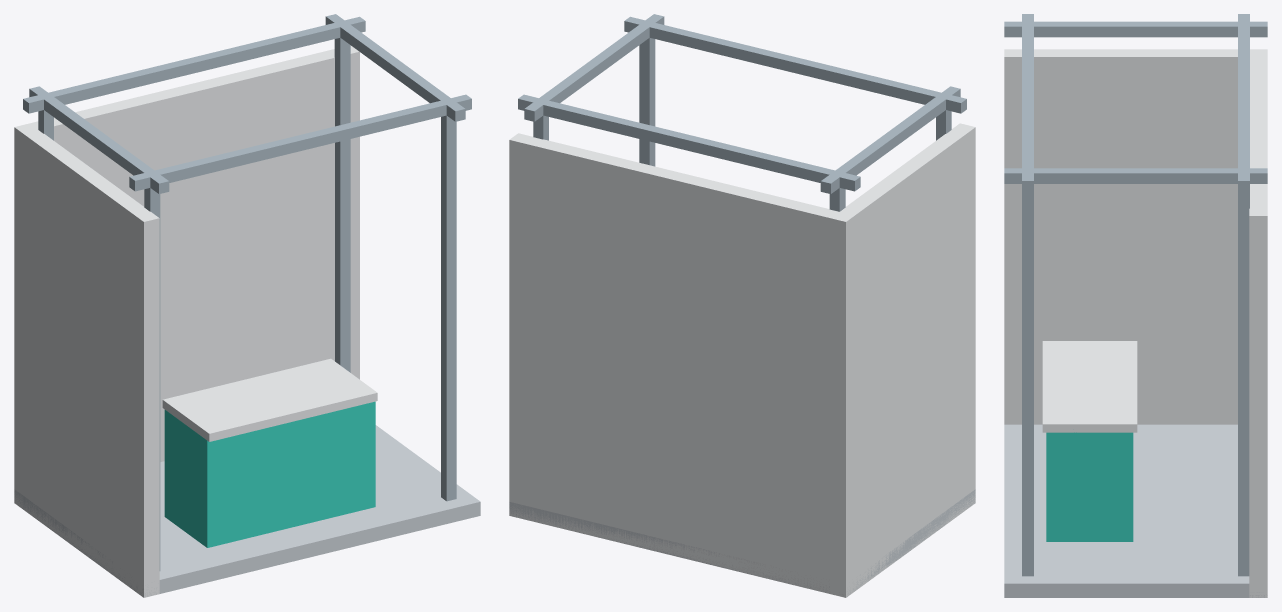
3 views of the same model, side by side, from view 1: azimuth 30°, elevation 25°; view 2: azimuth 150°, elevation 25°; view 3: azimuth 270°, elevation 25° (orthographic).
Visible parts, largest first — view 1: Exhibition Booth Concept; view 2: Exhibition Booth Concept; view 3: Exhibition Booth Concept.
Boxes of the visible parts, x1,y1,x2,y2 form: Exhibition Booth Concept: (14, 14, 480, 597); Exhibition Booth Concept: (509, 14, 975, 597); Exhibition Booth Concept: (1004, 14, 1267, 597).
Bounding box in the file's own units: 3 × 3.49 × 2.
